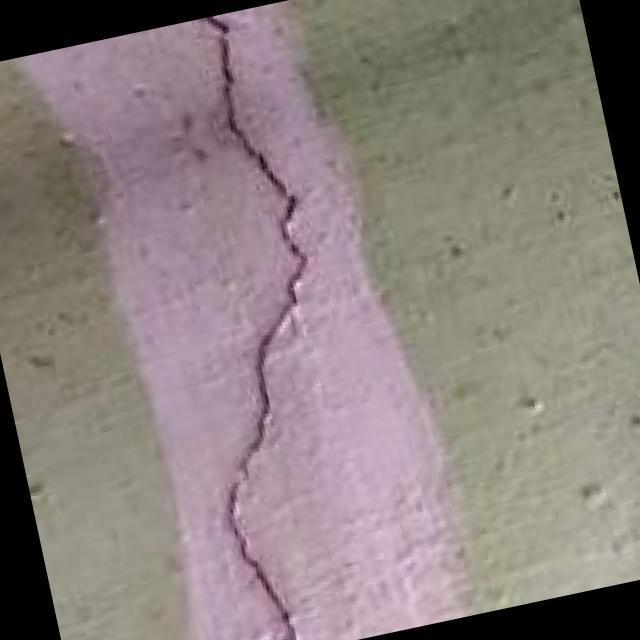crack: (53, 0, 442, 640)
